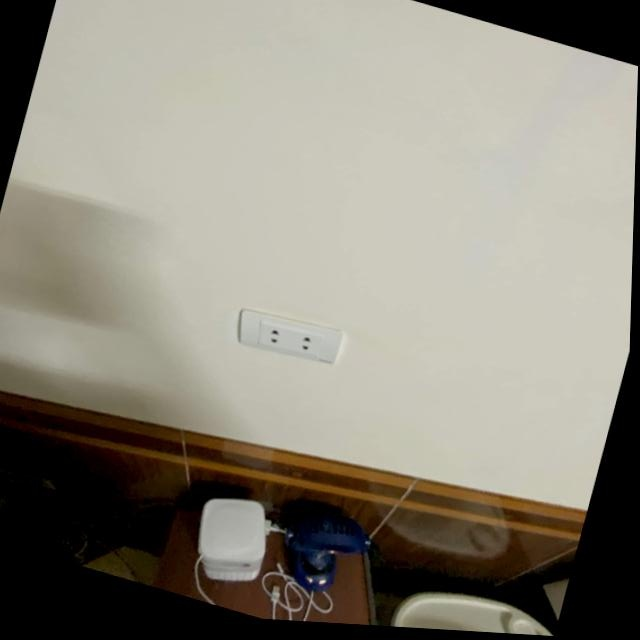outlet: (233, 300, 347, 371)
